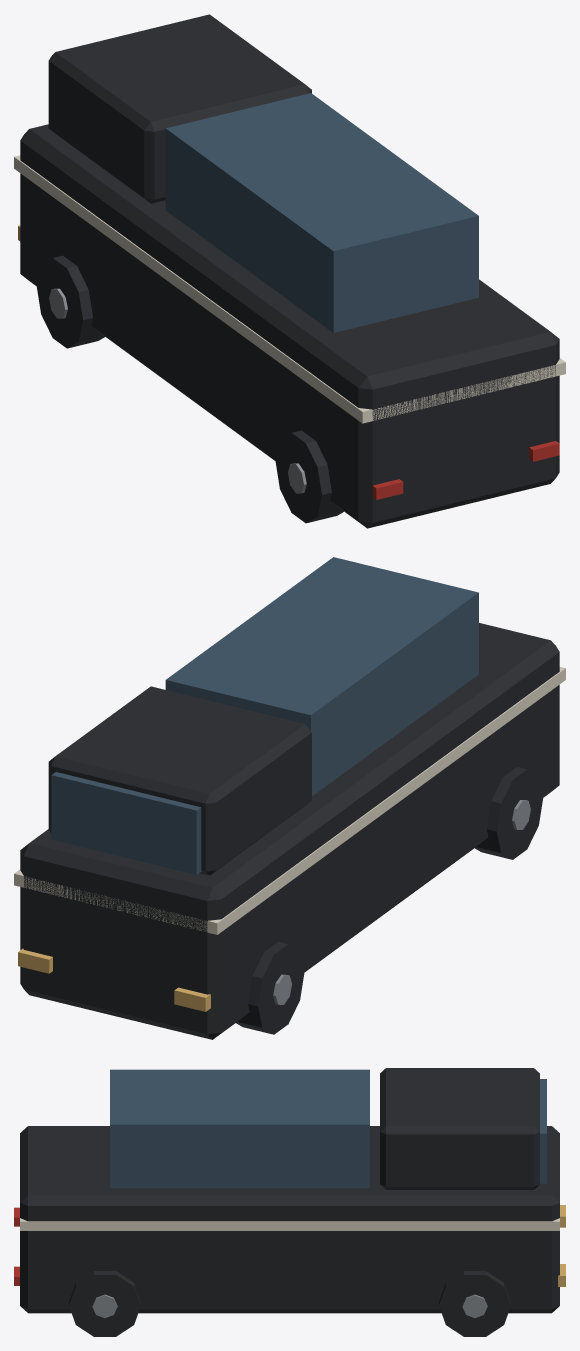
File: vehicle.hearse.glb
3 renders of one model, top to bottom at view 1: azimuth 30°, elevation 25°; view 2: azimuth 150°, elevation 25°; view 3: azimuth 270°, elevation 25°, orthographic. The views are drawn at different scales.
Visible parts, largest first — view 1: vehicle.hearse; view 2: vehicle.hearse; view 3: vehicle.hearse.
Boxes of the visible parts, x1=… form: vehicle.hearse: x1=14, y1=14, x2=565, y2=528; vehicle.hearse: x1=14, y1=557, x2=565, y2=1039; vehicle.hearse: x1=14, y1=1068, x2=565, y2=1336.
Size of the model in its own units: 2.03 by 2.18 by 5.52.
